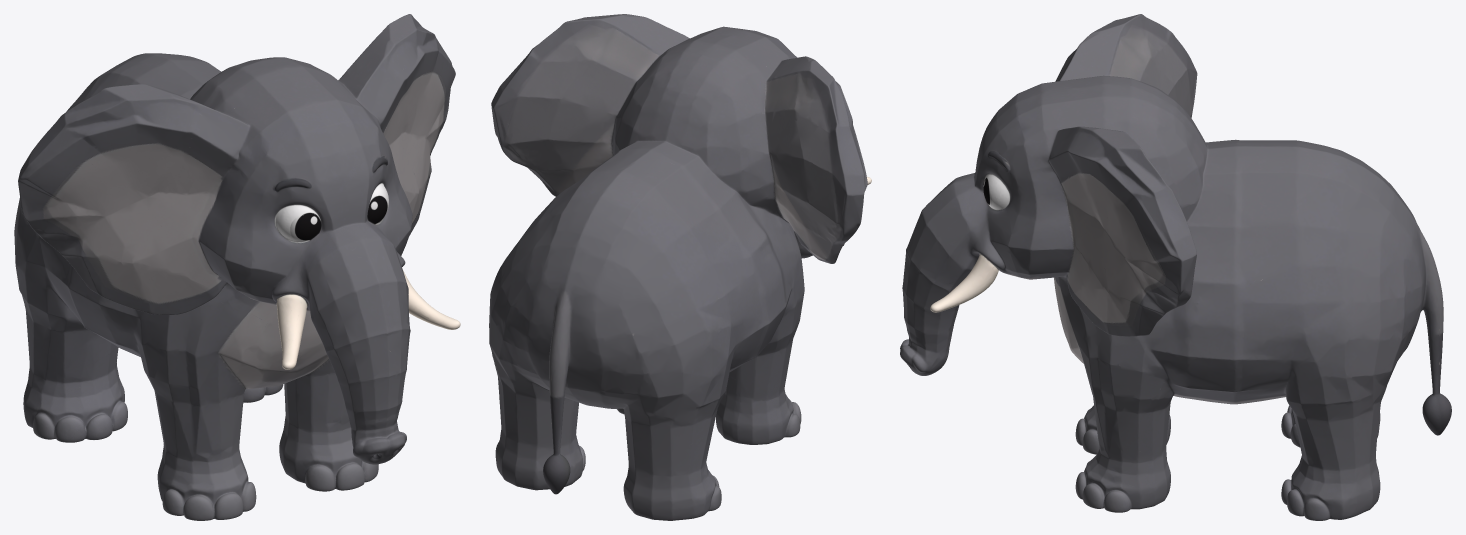
The model's file is elephant.glb.
3 renders of one model, left to right at view 1: azimuth 30°, elevation 25°; view 2: azimuth 150°, elevation 25°; view 3: azimuth 270°, elevation 25°, orthographic. The views are drawn at different scales.
Size of the model in its own units: 1.56 by 1.48 by 1.9.
1 material, 1 textured.
